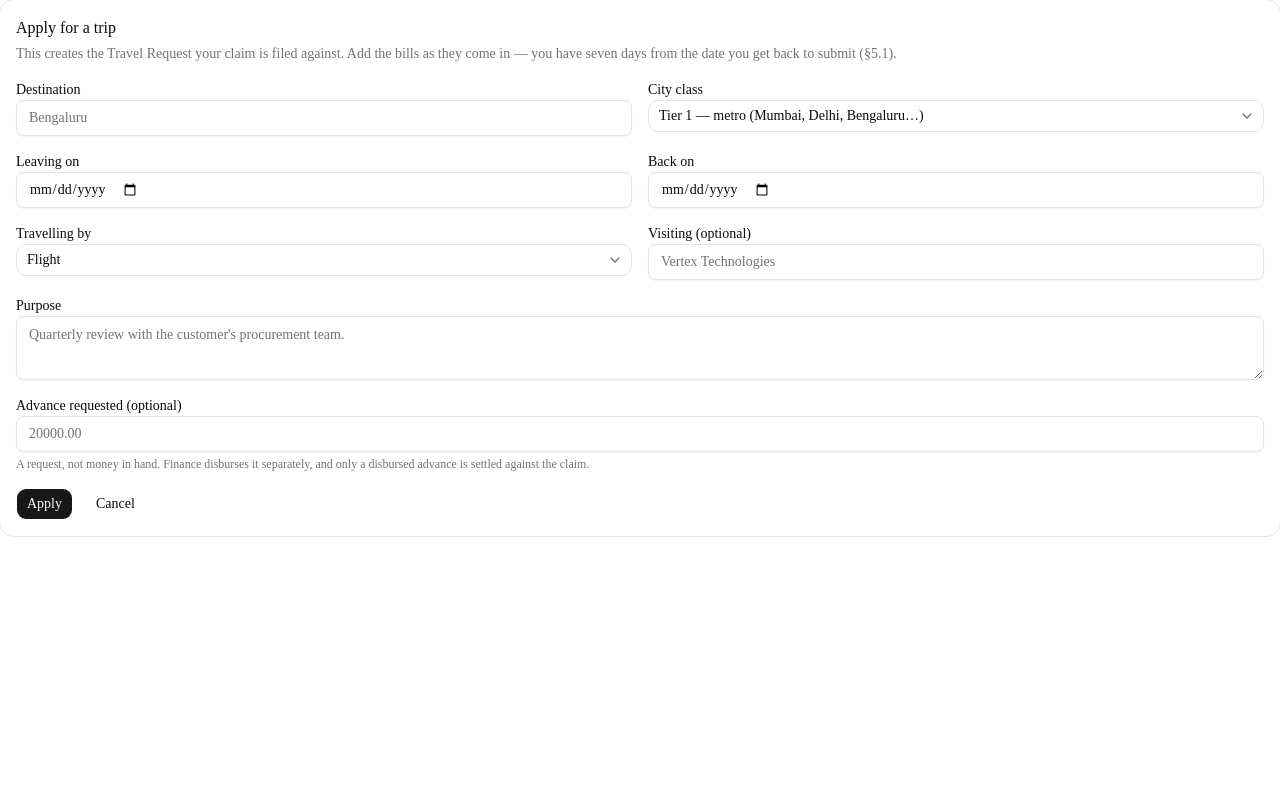
NewTripForm › refuses an empty application and says which field is missing
Click the button "Apply".
click(44, 504)  # box top-left (16, 488), bottom-right (73, 520)
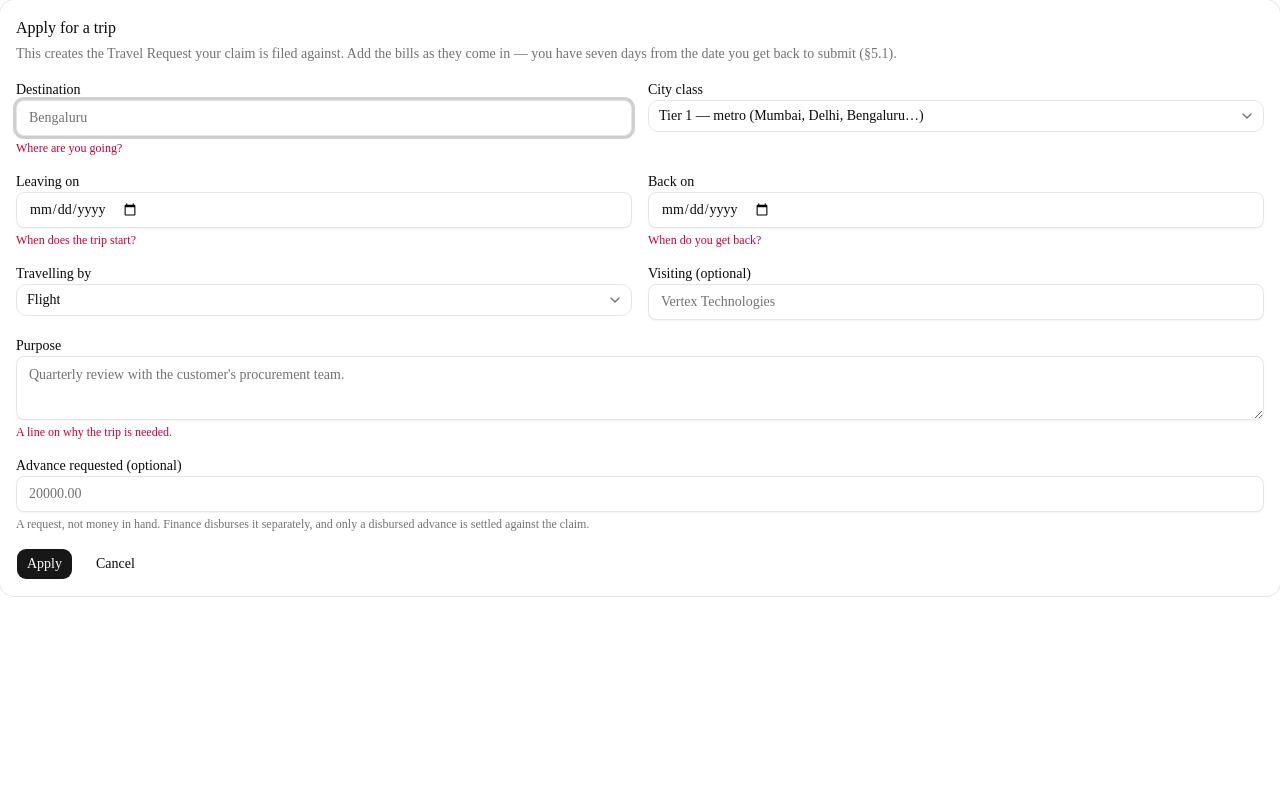
Now the text "Where are you going?" is shown, box top-left (16, 141), bottom-right (122, 155)
Now the text "A line on why the trip is needed." is shown, box top-left (16, 425), bottom-right (172, 439)
